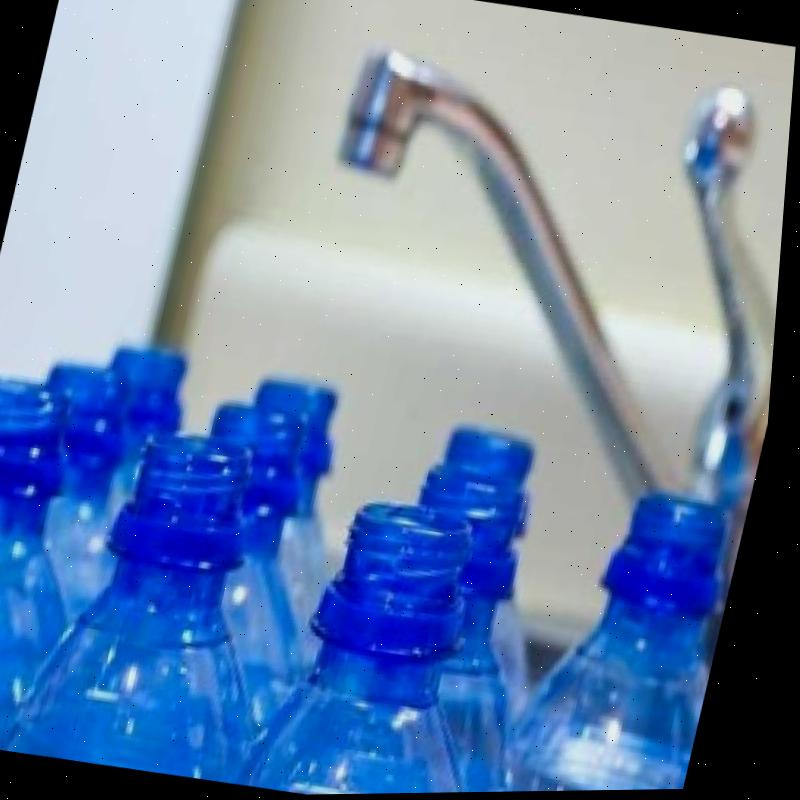botella: (19, 423, 329, 789), (252, 491, 551, 797), (503, 482, 756, 794), (360, 464, 582, 795), (156, 399, 375, 728), (0, 372, 127, 756), (205, 372, 379, 649), (0, 359, 158, 636), (429, 420, 560, 537), (97, 339, 204, 442)
